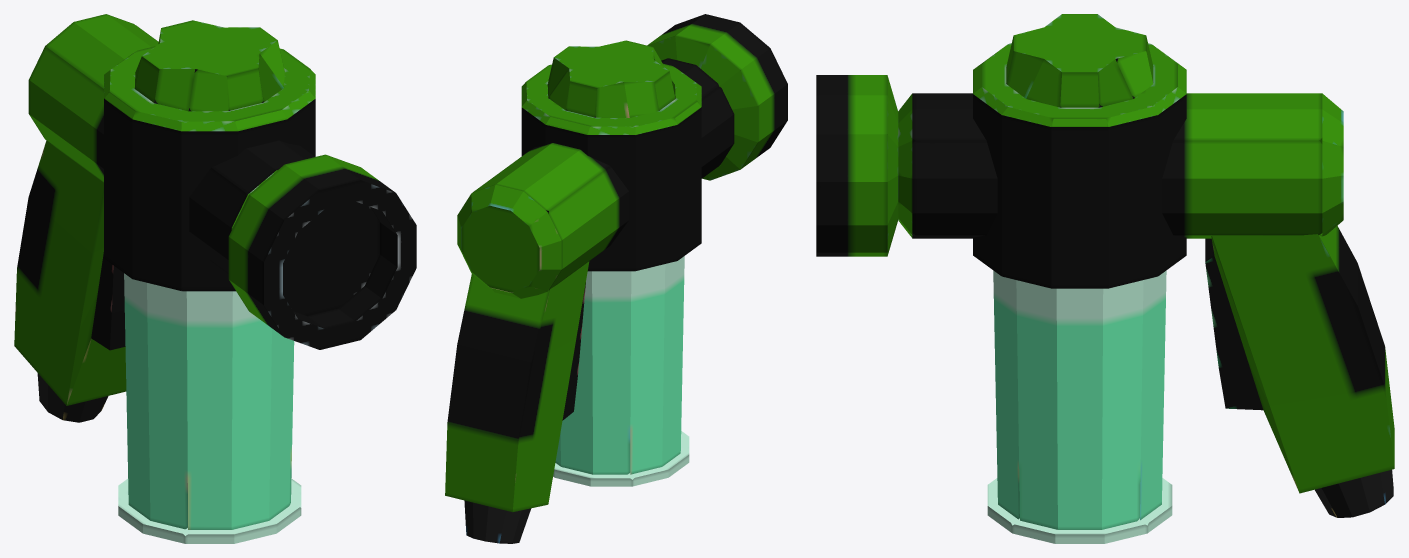
File: WashingPistol.fbx
The picture shows the model from 3 angles, left to right: view 1: azimuth 30°, elevation 25°; view 2: azimuth 150°, elevation 25°; view 3: azimuth 270°, elevation 25°; orthographic projection. The views are drawn at different scales.
Visible parts, largest first — view 1: cylinder_1, cylinder_3, cylinder_2, cuboid, cylinder; view 2: cylinder_1, cylinder_2, cuboid, cylinder_3, cylinder; view 3: cylinder_1, cylinder_2, cylinder_3, cuboid, cylinder.
Boxes of the visible parts, x1,y1,x2,y2 form: cylinder_1: (28,14,416,349); cylinder_3: (118,273,301,543); cylinder_2: (104,20,315,291); cuboid: (14,140,126,405); cylinder: (37,373,108,422); cylinder_1: (457,14,787,298); cylinder_2: (521,40,701,271); cuboid: (445,261,589,512); cylinder_3: (553,256,689,486); cylinder: (464,500,531,543); cylinder_1: (816,75,1343,256); cylinder_2: (973,14,1186,288); cylinder_3: (987,270,1172,543); cuboid: (1205,226,1394,493); cylinder: (1315,470,1393,517).
Bounding box in the file's own units: 37.5 × 90.54 × 101.
Materials: 1 (1 with a texture image).
